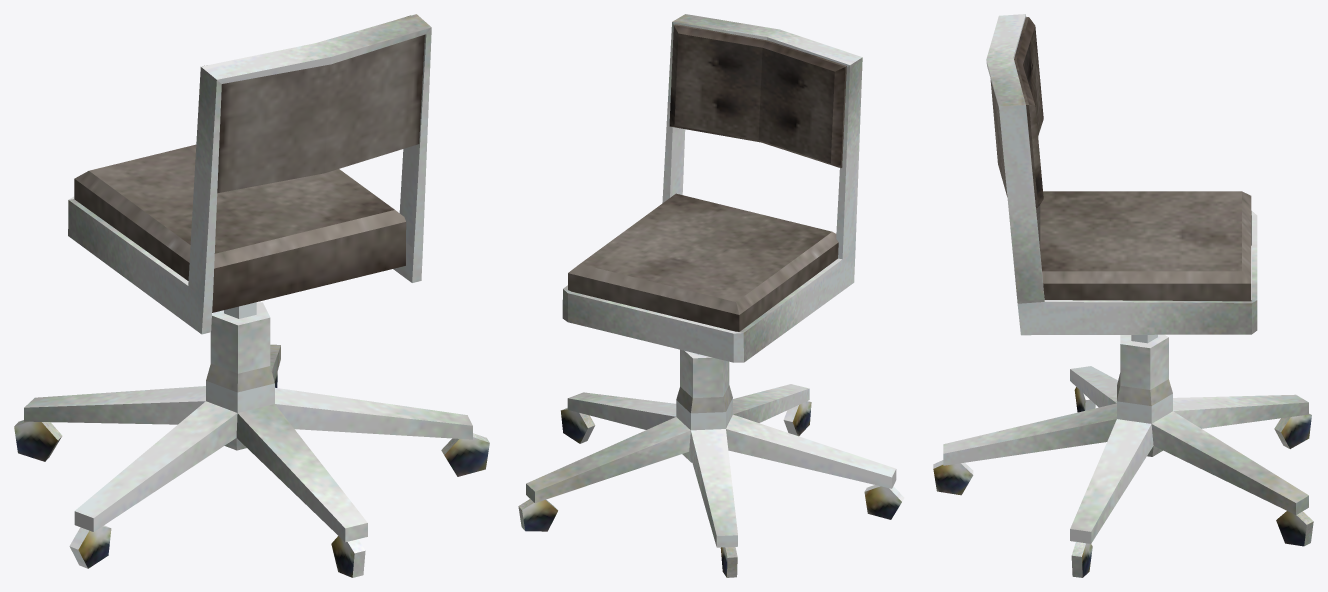
File: office_chair_grey.obj
3 renders of one model, left to right at view 1: azimuth 30°, elevation 25°; view 2: azimuth 150°, elevation 25°; view 3: azimuth 270°, elevation 25°, orthographic. The views are drawn at different scales.
Parts seen in each view (by area): view 1: office_chair_grey; view 2: office_chair_grey; view 3: office_chair_grey.
Boxes of the visible parts, box(x1,y1,x2,y2) form: office_chair_grey: box(14, 14, 489, 577); office_chair_grey: box(518, 14, 904, 577); office_chair_grey: box(933, 14, 1313, 577).
Size of the model in its own units: 0.94 by 1.1 by 0.8617.
